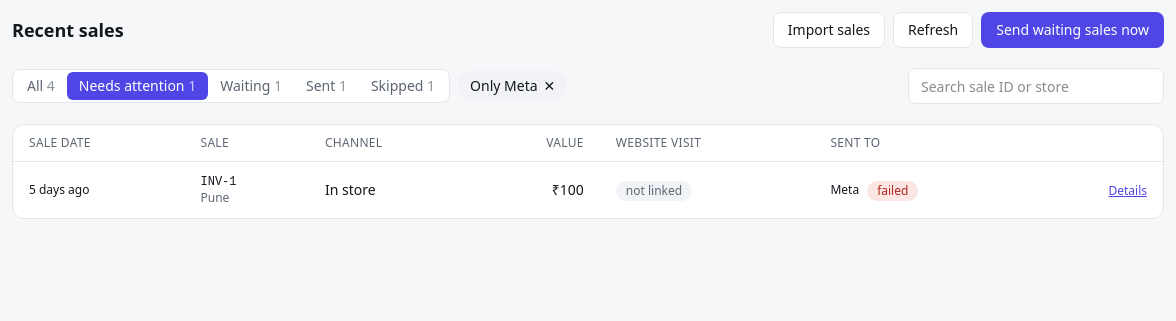
Sales: finding the sales that matter › opened from an Overview count, a platform filter shows only that platform and can be removed
The image size is (1176, 321).
Expected: the text "INV-1" is shown, [200,175,236,189]
Expected: the text "Google Ads" is not shown
Click the button "Only Meta ✕". click: [513, 86]
box: [458,70,567,102]
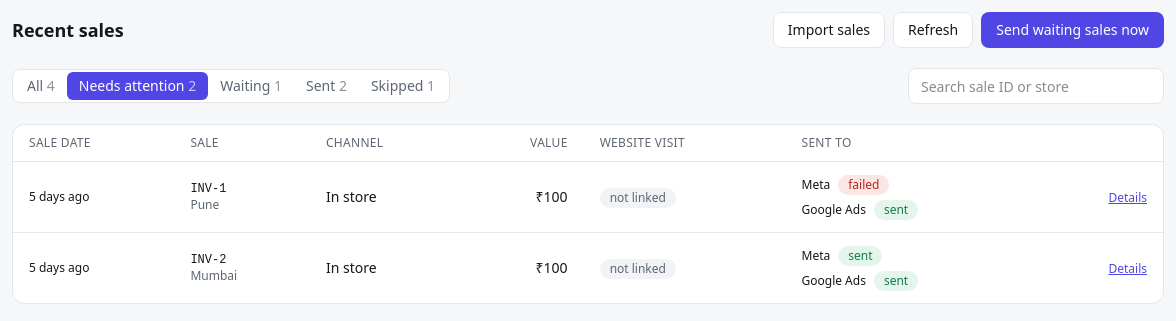
Result: the text "Google Ads" below "failed" is shown at [802,200,866,218]
